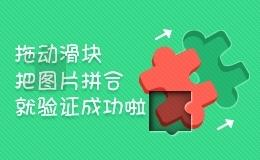target: (128, 71, 170, 111)
